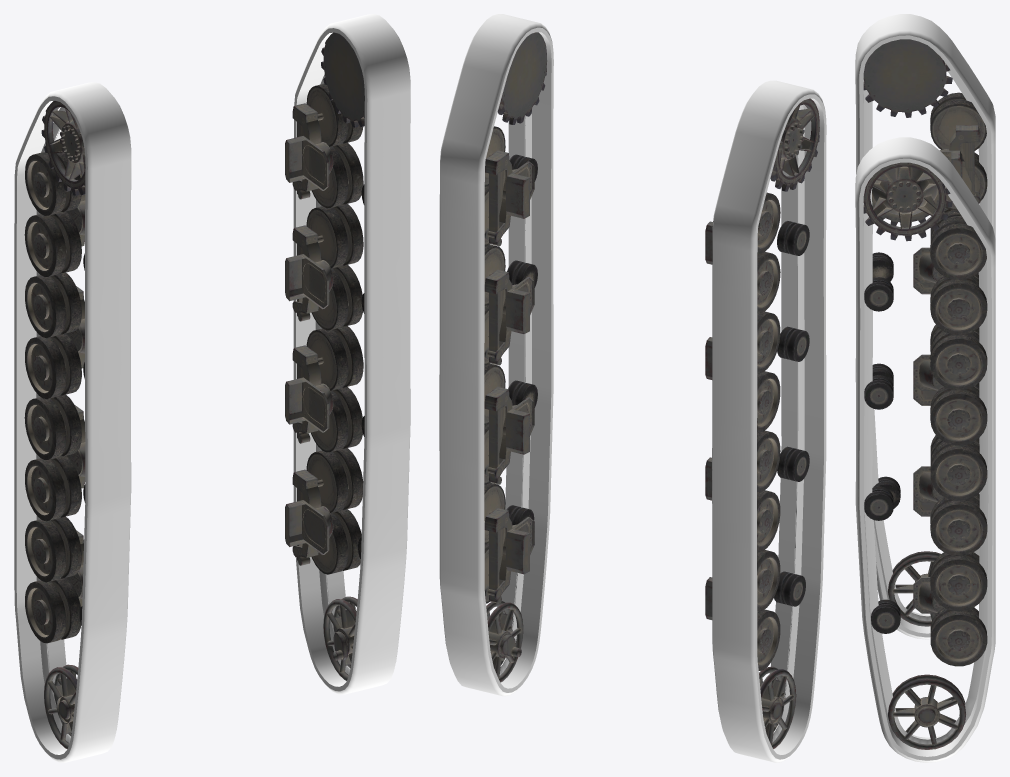
File: Chassis.glb
The picture shows the model from 3 angles, left to right: view 1: azimuth 30°, elevation 25°; view 2: azimuth 150°, elevation 25°; view 3: azimuth 270°, elevation 25°; orthographic projection. The views are drawn at different scales.
Parts seen in each view (by area): view 1: set_1_group_0, set_0_group_0, set_3_group_0, set_2_group_0; view 2: set_1_group_0, set_0_group_0, set_3_group_0, set_2_group_0; view 3: set_3_group_0, set_0_group_0, set_2_group_0, set_1_group_0.
Boxes of the visible parts, <box> form: set_1_group_0: <box>14,82,131,762</box>; set_0_group_0: <box>293,14,410,694</box>; set_3_group_0: <box>285,32,364,680</box>; set_2_group_0: <box>24,101,85,748</box>; set_1_group_0: <box>712,80,826,762</box>; set_0_group_0: <box>439,14,553,696</box>; set_3_group_0: <box>484,32,547,682</box>; set_2_group_0: <box>705,98,819,748</box>; set_3_group_0: <box>863,162,987,749</box>; set_0_group_0: <box>855,137,995,762</box>; set_2_group_0: <box>863,39,987,626</box>; set_1_group_0: <box>855,14,995,639</box>.
Bounding box in the file's own units: 2.8 × 5.58 × 1.16.
4 materials, 2 textured.
